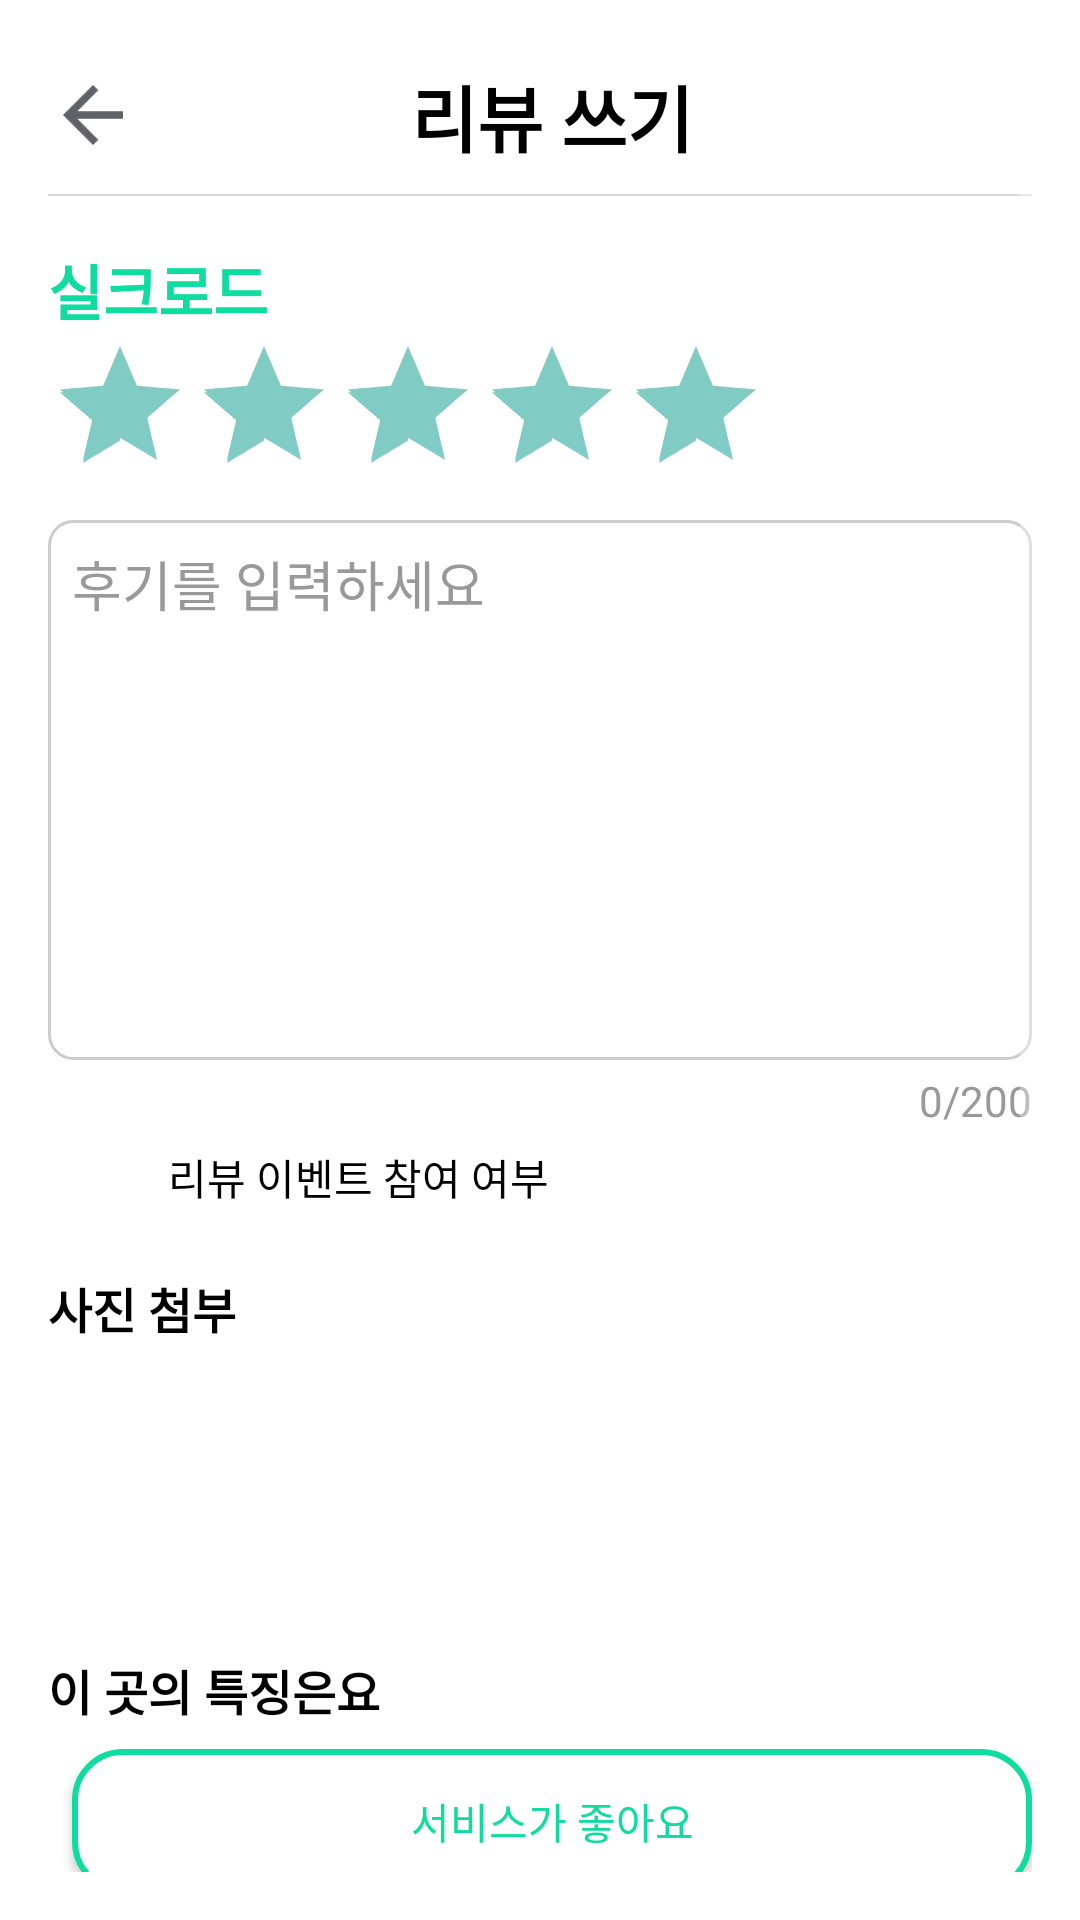

Named icons in this screenshot (1080 × 1920) and their centers, (x,y):
뒤로가기: (93,115)
